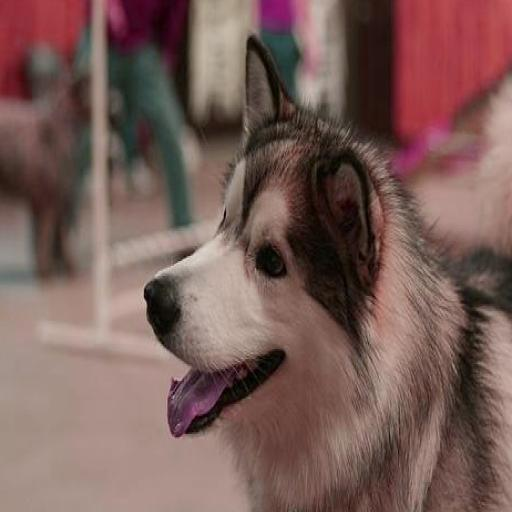dog_face: (136, 26, 390, 456)
